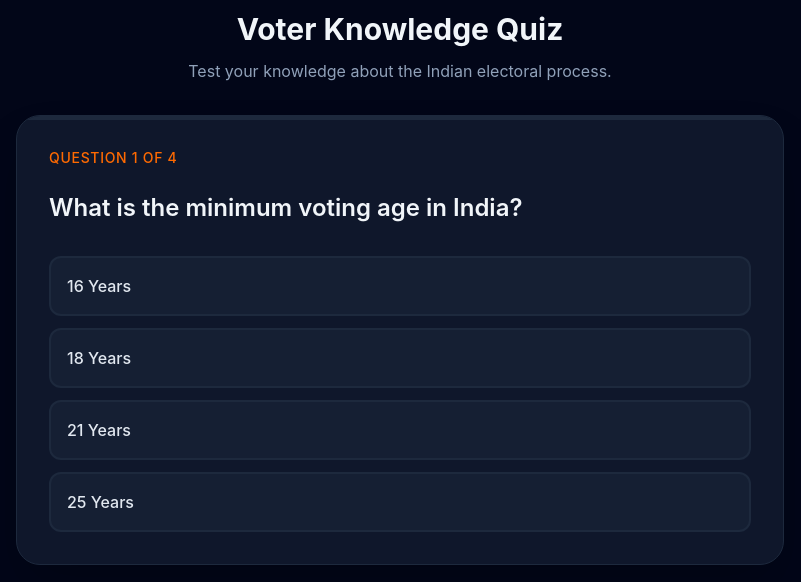
Test case: Quiz — Question Flow › disables all options after an answer is selected
Click the button with aria-label "Option: 18 Years" at coordinates (99, 358), box [49, 328, 751, 388]
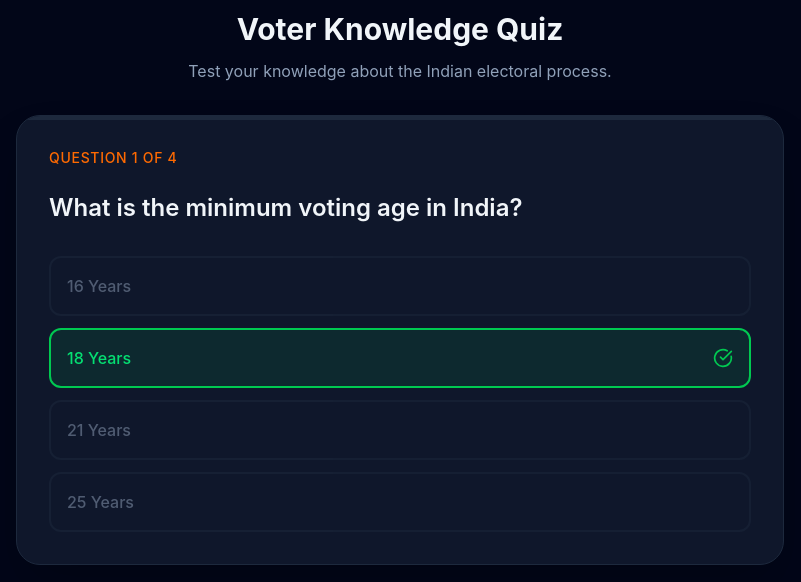
Expected: the button with aria-label "Option:" is disabled, [49, 256, 751, 316]
